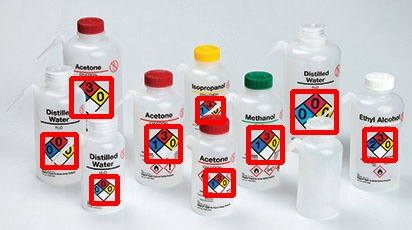nfpa: (292, 91, 336, 132), (71, 78, 111, 116), (146, 126, 180, 161), (248, 127, 282, 162), (42, 134, 76, 167), (364, 129, 395, 160), (91, 176, 117, 203), (205, 170, 233, 195), (197, 98, 223, 122)
